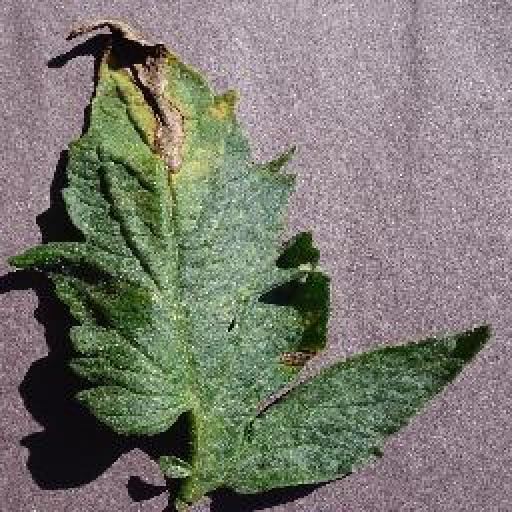disease_tomato: (9, 20, 332, 431)
